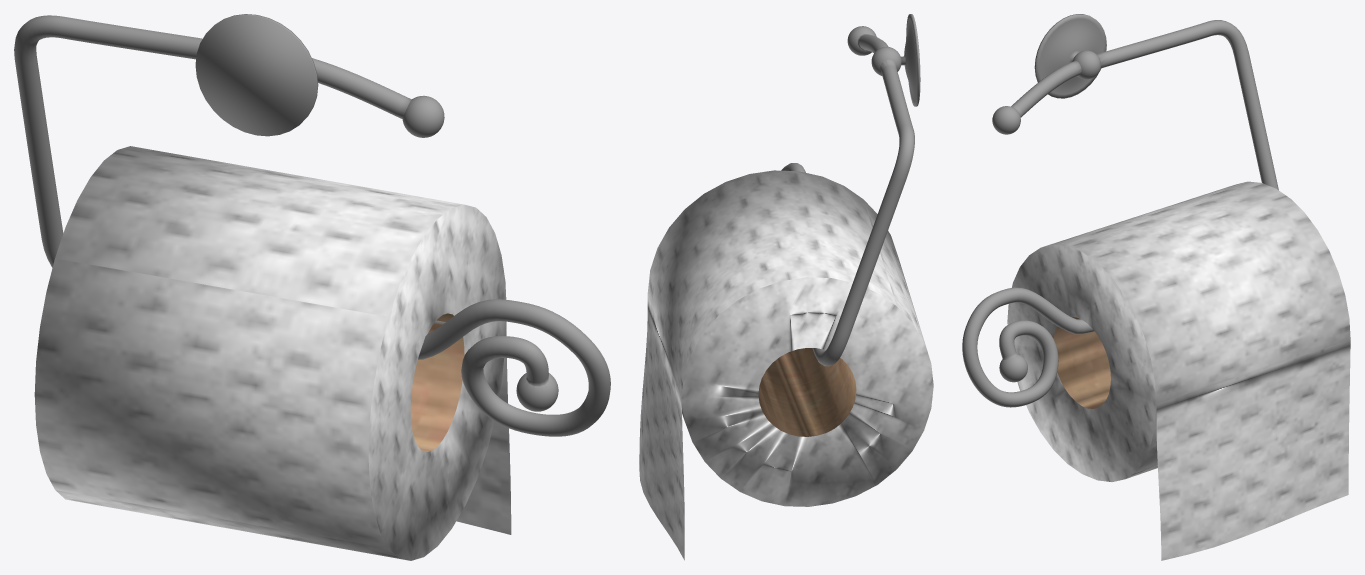
Rendered from ToiletRolls.fbx.
3 renders of one model, left to right at view 1: azimuth 30°, elevation 25°; view 2: azimuth 150°, elevation 25°; view 3: azimuth 270°, elevation 25°, orthographic. The views are drawn at different scales.
Visible parts, largest first — view 1: HangingToiletRoll, ToiletRollHolderMount; view 2: HangingToiletRoll, ToiletRollHolderMount; view 3: HangingToiletRoll, ToiletRollHolderMount.
Boxes of the visible parts, box(x1,y1,x2,y2) form: HangingToiletRoll: box(34, 146, 511, 560); ToiletRollHolderMount: box(14, 14, 610, 436); HangingToiletRoll: box(639, 170, 933, 560); ToiletRollHolderMount: box(781, 14, 920, 366); HangingToiletRoll: box(1007, 181, 1350, 560); ToiletRollHolderMount: box(962, 14, 1278, 407).
Bounding box in the file's own units: 103 × 142 × 114.
